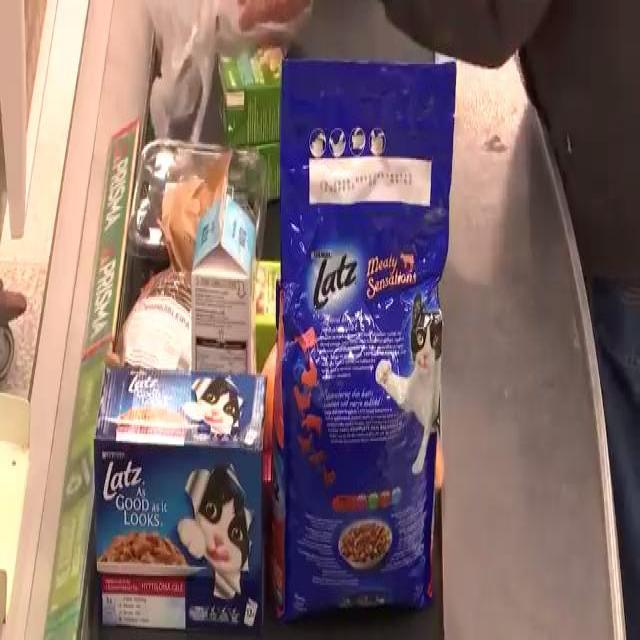beverage: (192, 181, 257, 370)
food-box: (270, 58, 458, 623), (98, 365, 269, 631), (112, 260, 206, 369), (218, 46, 290, 139), (228, 134, 302, 197)
fruit: (128, 146, 270, 284)
